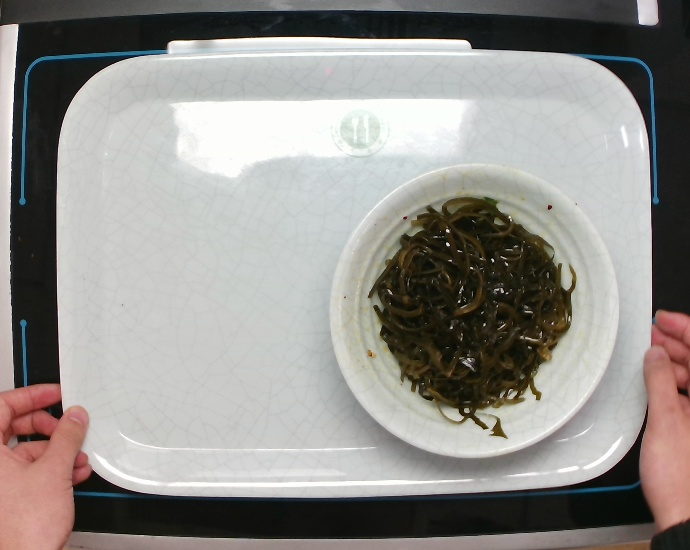JYsf-Xiao_Tang_Wan: (325, 160, 620, 461)
